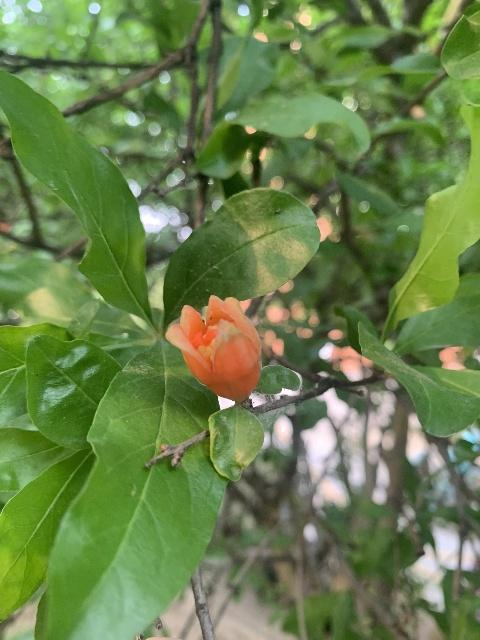flower: (165, 294, 260, 404)
